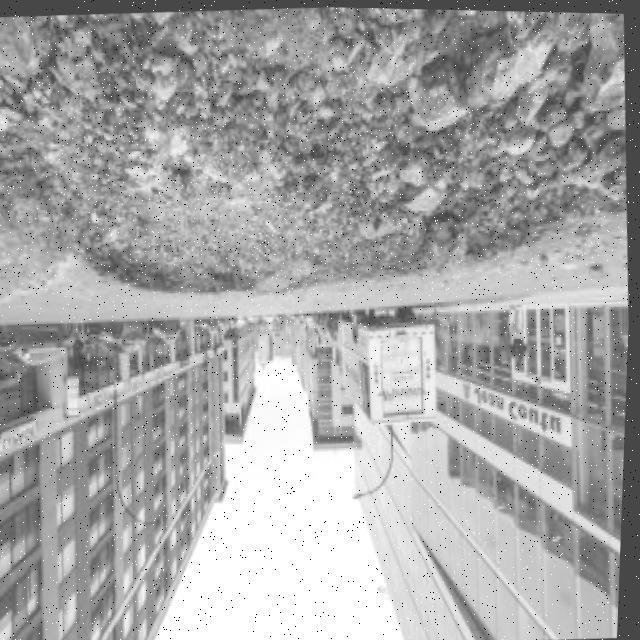pothole: (0, 0, 638, 316)
